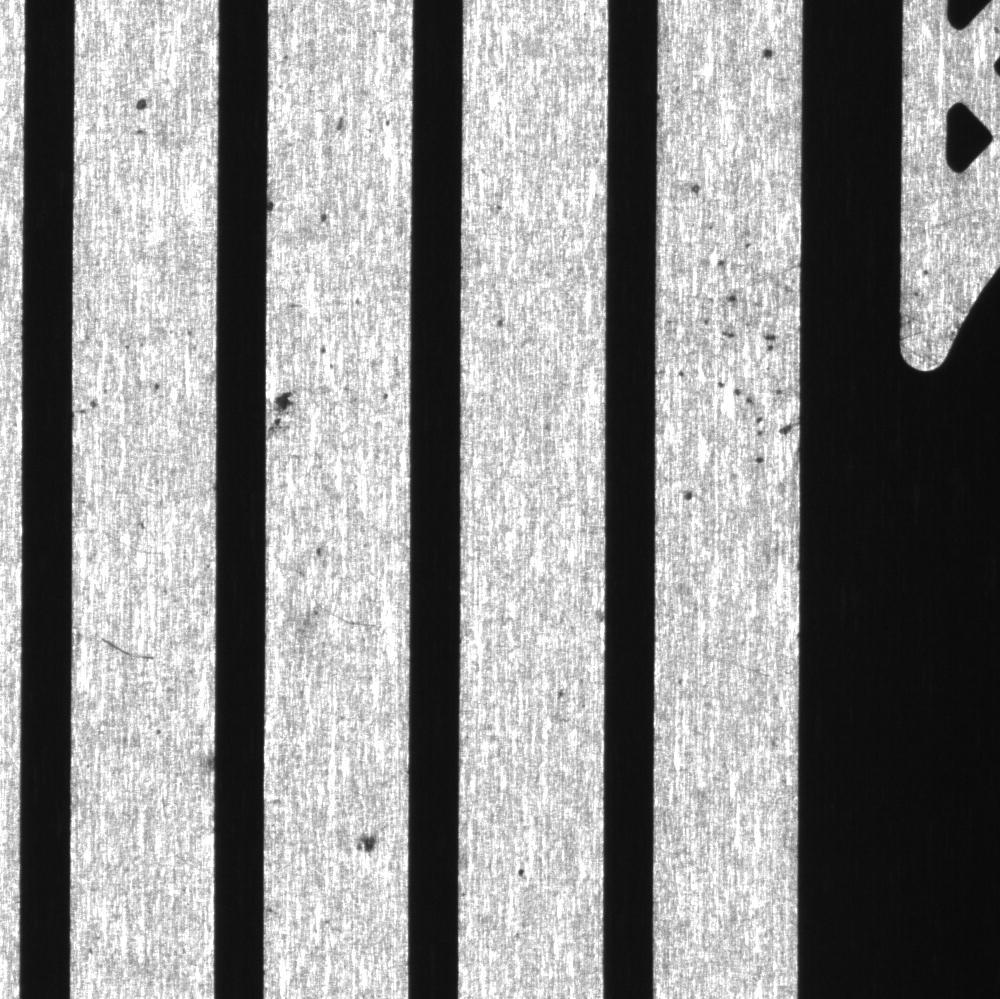Etching: (658, 391, 796, 504), (663, 283, 795, 388), (687, 170, 767, 277), (283, 292, 389, 358), (72, 363, 172, 425), (320, 361, 398, 410), (321, 102, 398, 142), (118, 84, 164, 147), (262, 383, 299, 453), (346, 820, 395, 864), (549, 669, 593, 716), (267, 178, 286, 231), (312, 205, 344, 236), (508, 860, 537, 889)
Pinhole: (479, 305, 517, 340), (758, 38, 786, 69)
Scar: (898, 205, 985, 242), (88, 629, 169, 665), (699, 648, 776, 684), (323, 596, 394, 633)
